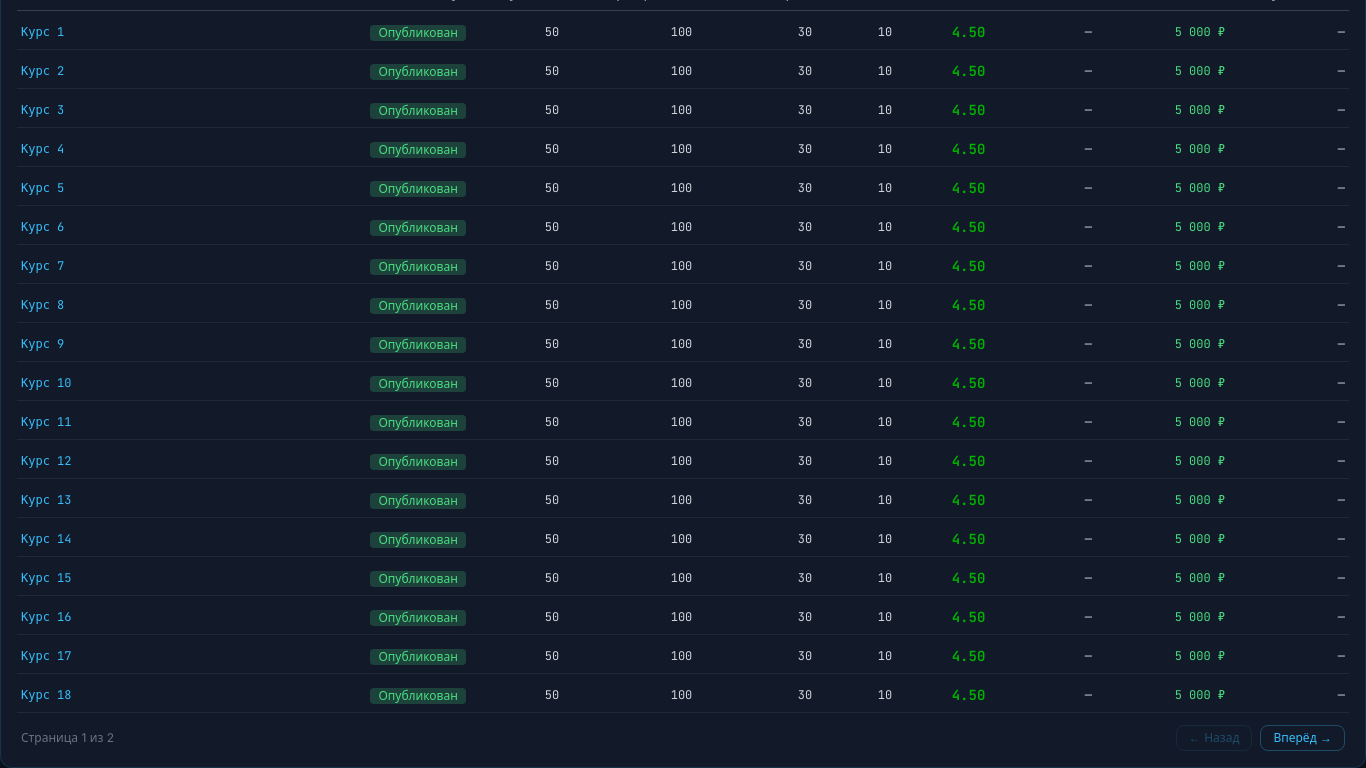
Courses › paginates courses
(page scrolled)
Check: the text "Страница 1 из 2" is shown, box [21,730,114,746]
Click the button "Вперёд →" at (1303, 738), box [1260,725,1345,751]
(page scrolled)
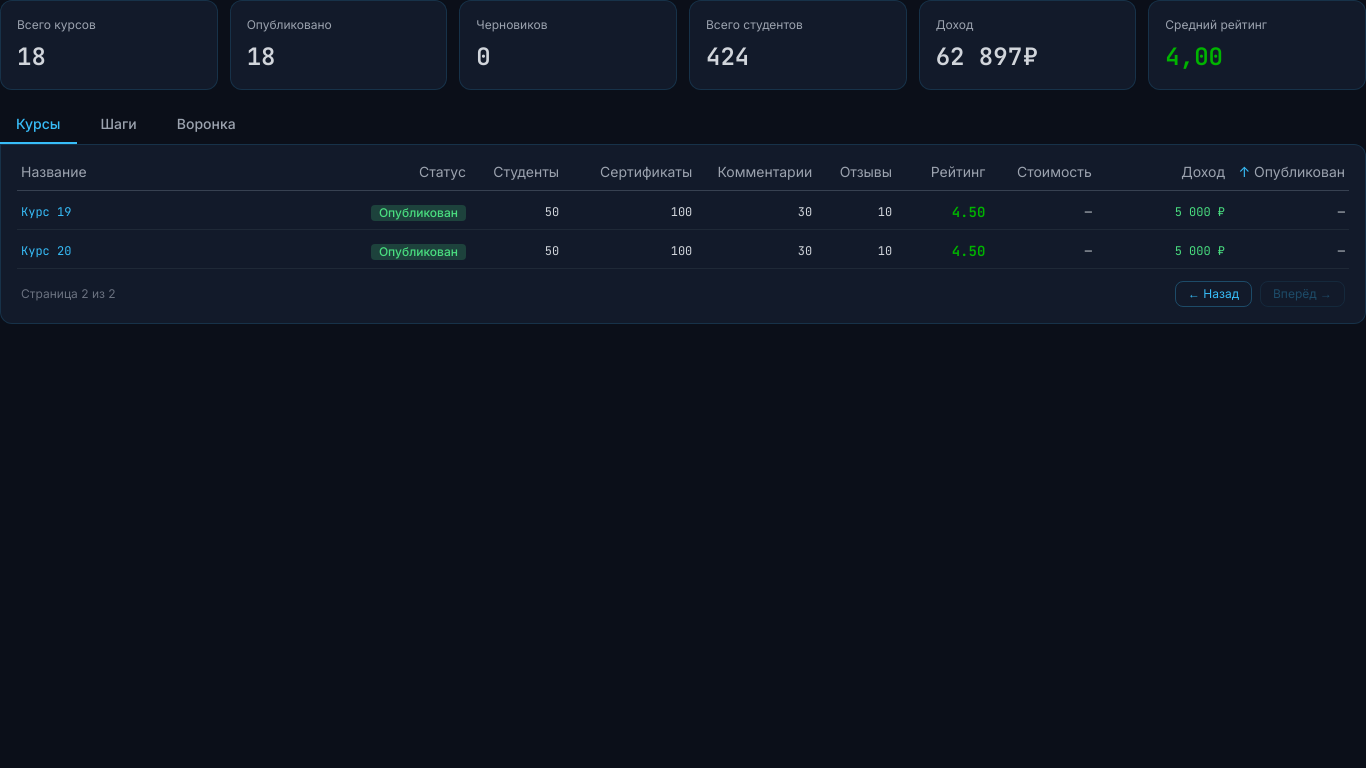
Check: the text "Страница 2 из 2" is shown, box [21,286,116,302]
